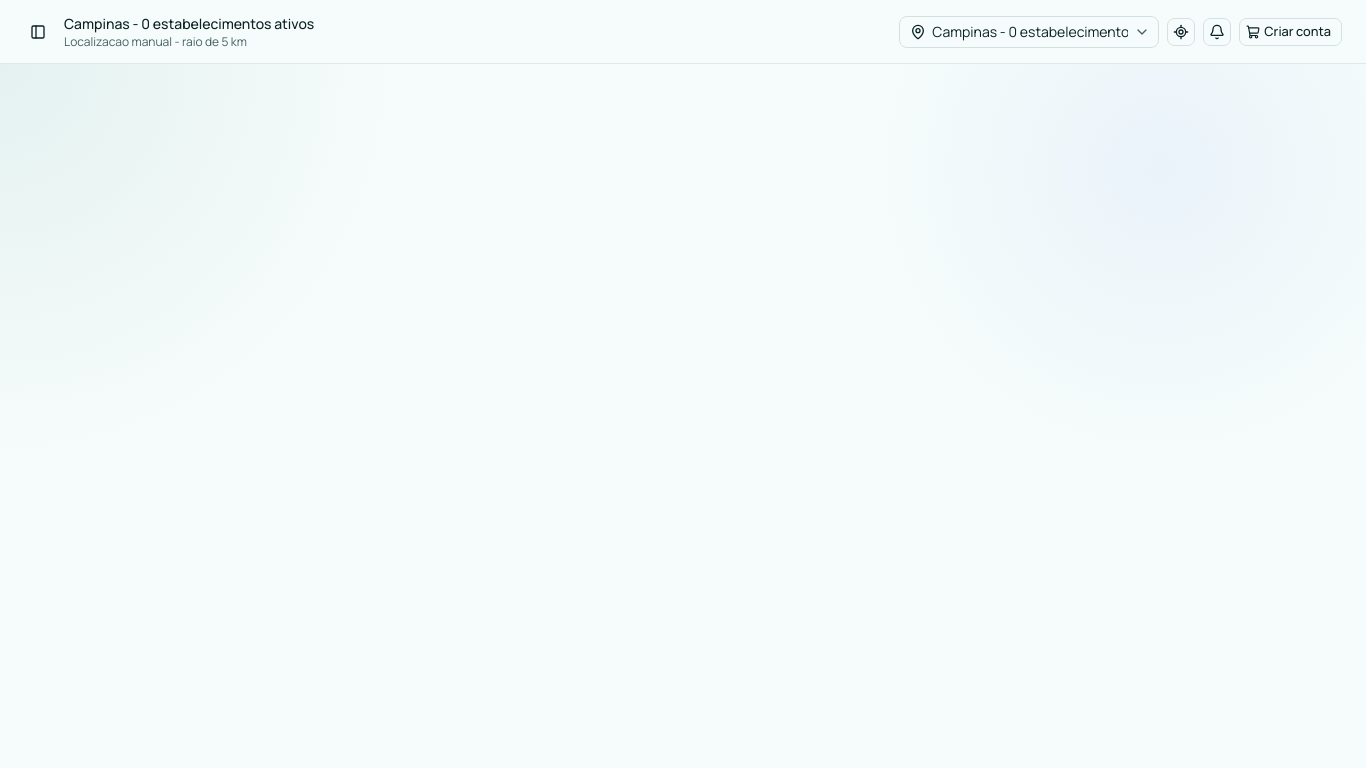
PublicLayout › saves explicit browser coordinates with the default local radius
What coordinates should you click on to do the following:
click the button named "configurar localiza"
I would click on:
 (1181, 32)
Its box is [1167,18,1195,46].
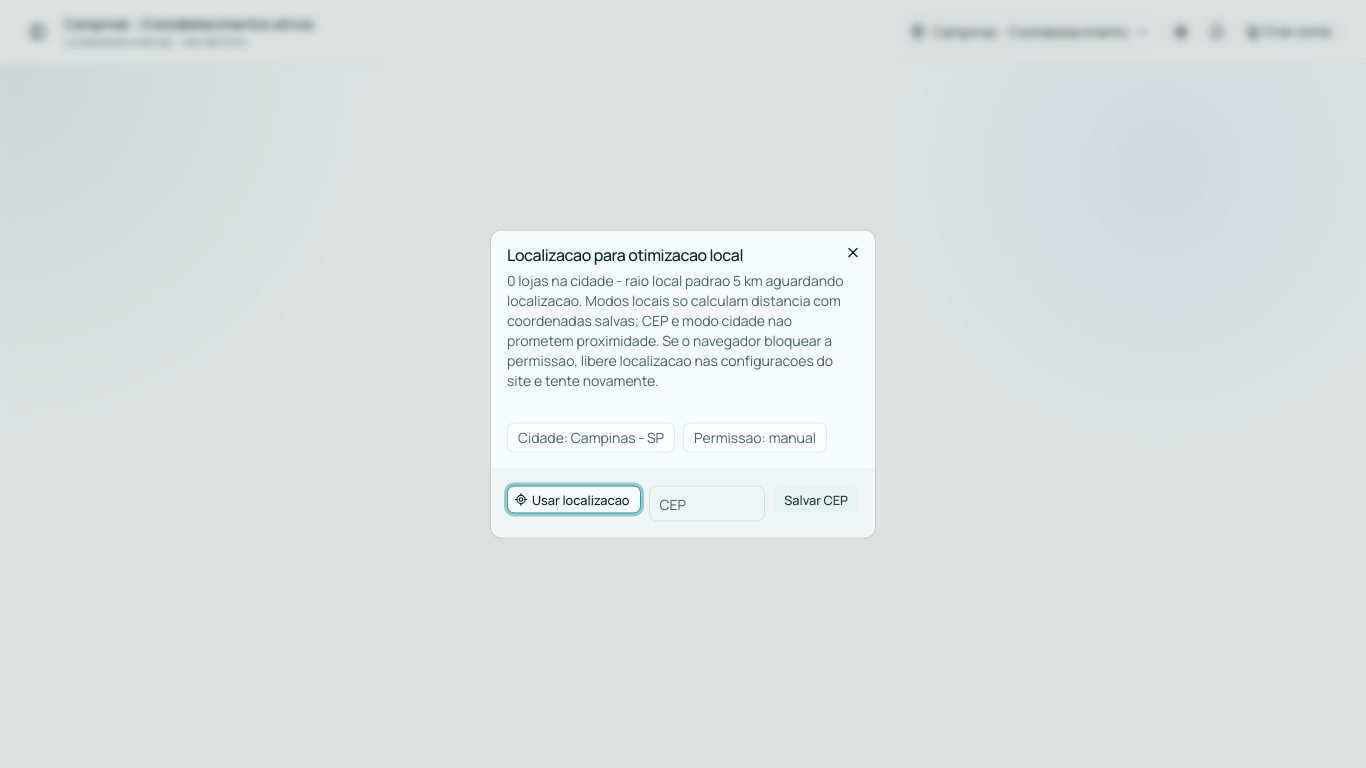
What coordinates should you click on to do the following:
click the button "Usar localizacao"
I would click on:
 (574, 500)
Its box is [507,486,641,514].
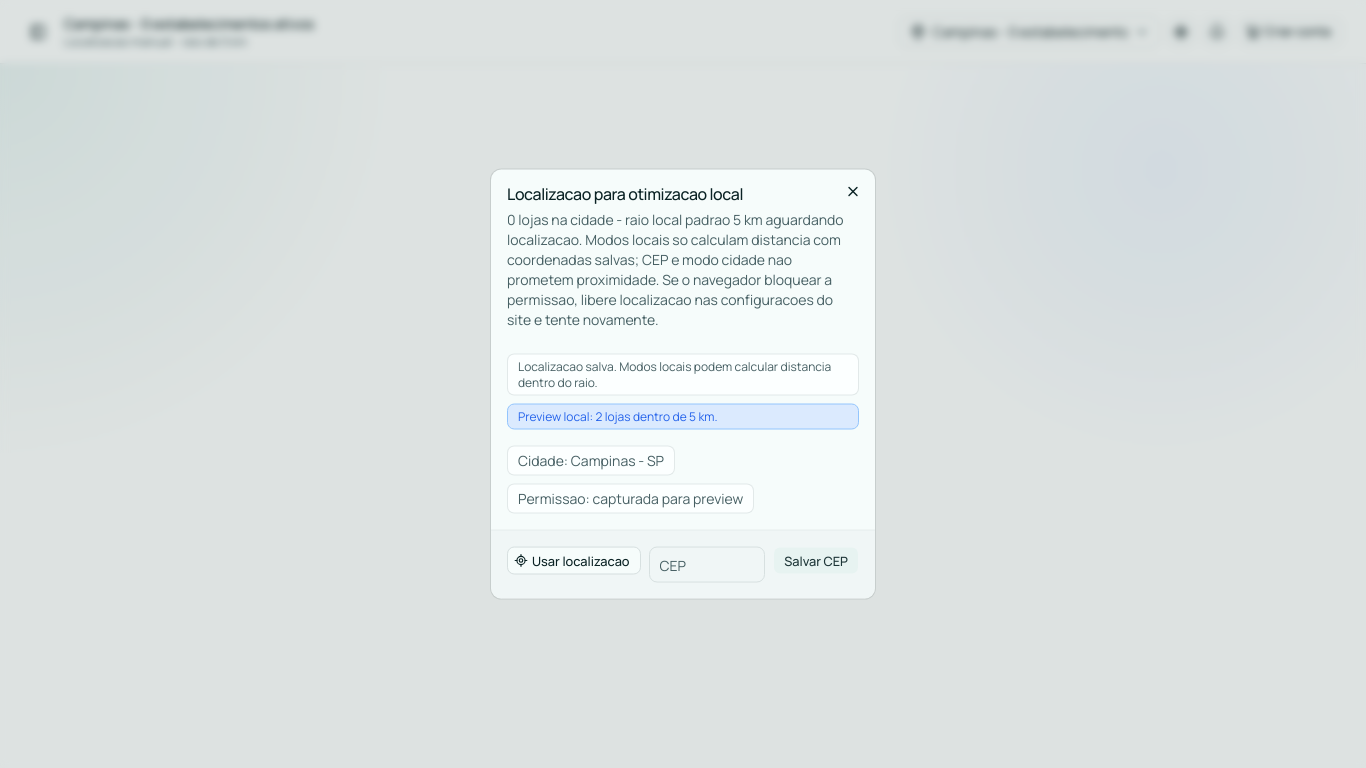
Check: the text "Preview local: 2 lojas" is shown, box [518,408,718,424]
Check: the text "capturada para preview" is shown, box [592,488,743,508]
